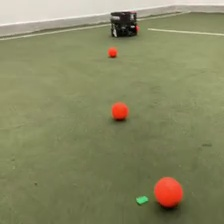ball: (152, 174, 183, 212), (110, 101, 129, 121), (108, 46, 118, 58)
robot: (109, 10, 138, 38)
